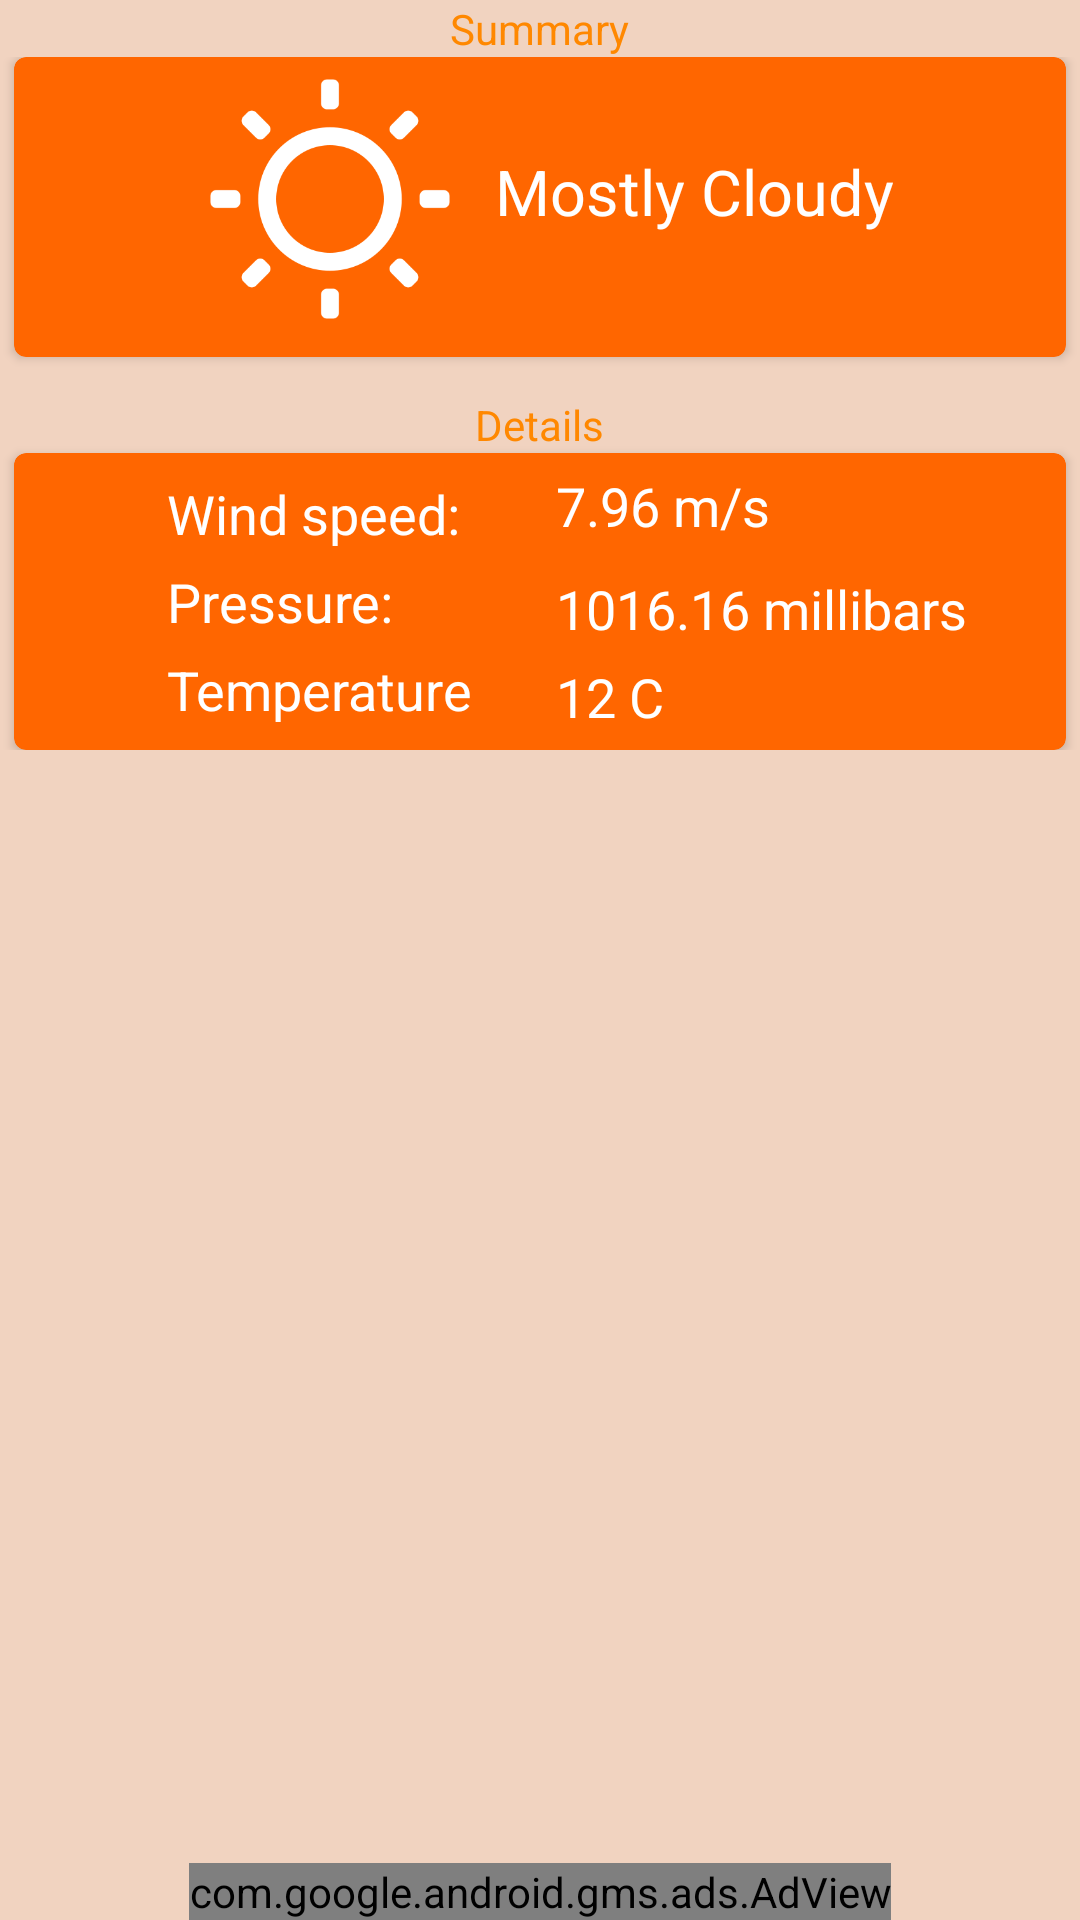

Where icons sit on this 1080×1920 app screen, as [left=x1, top=y1, right=x2, bottom=y2]:
sunny: [left=210, top=79, right=450, bottom=319]
